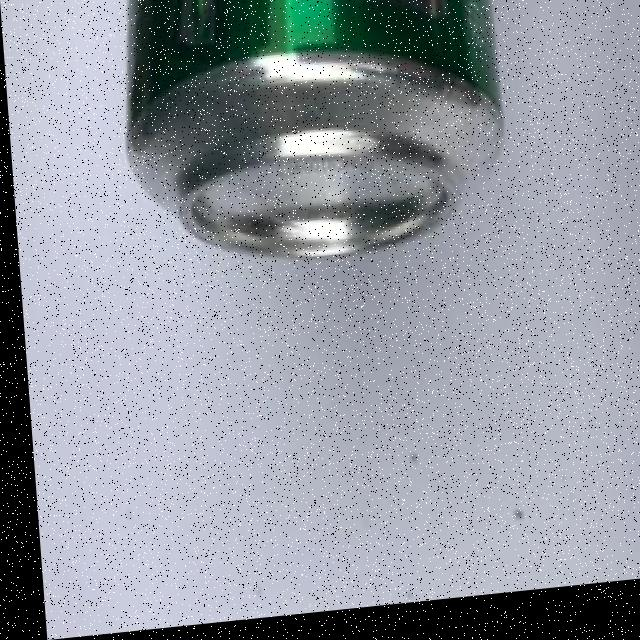metal: (114, 0, 510, 301)
